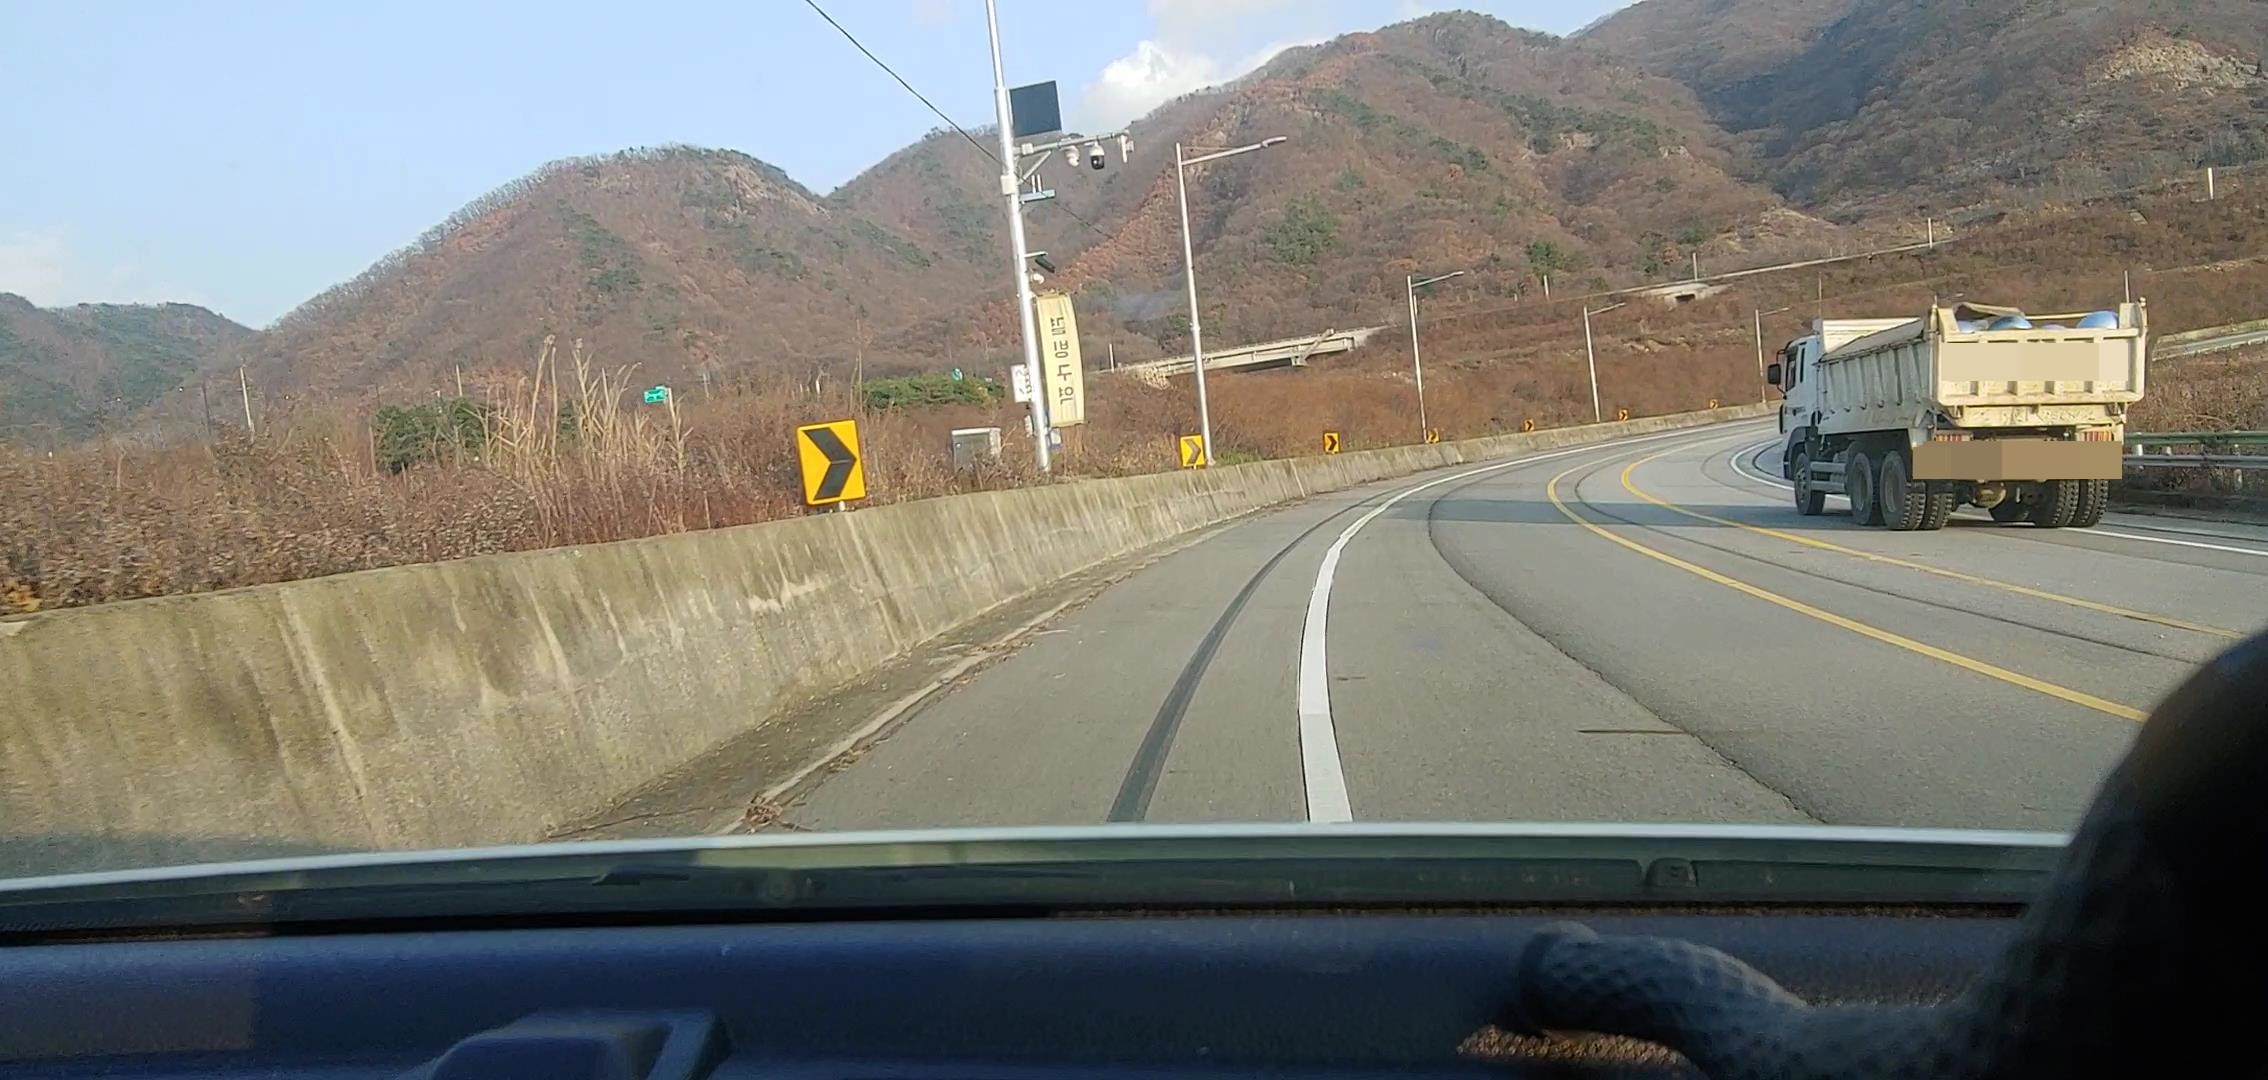불법차량: (1766, 297, 2147, 532)
